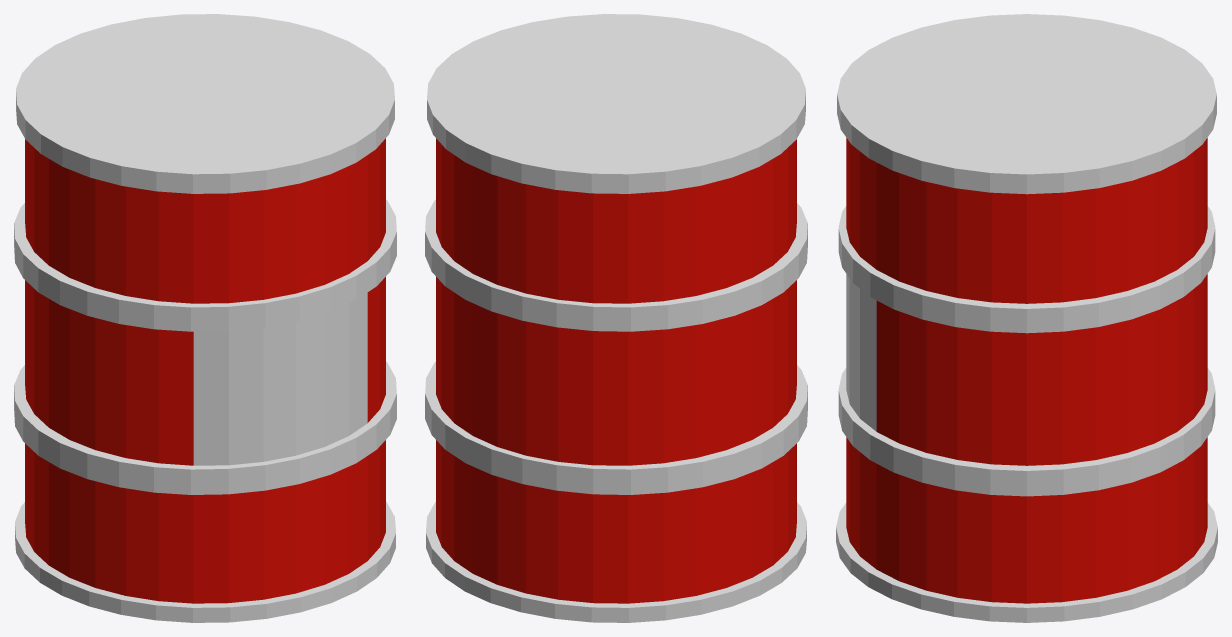
The model's file is ExplosiveBarrel.fbx.
The picture shows the model from 3 angles, left to right: view 1: azimuth 30°, elevation 25°; view 2: azimuth 150°, elevation 25°; view 3: azimuth 270°, elevation 25°; orthographic projection.
Visible parts, largest first — view 1: Cylinder; view 2: Cylinder; view 3: Cylinder.
Part boxes in pixels (x1=…): Cylinder: x1=14, y1=14, x2=396, y2=622; Cylinder: x1=425, y1=14, x2=807, y2=622; Cylinder: x1=836, y1=14, x2=1217, y2=622.
Bounding box in the file's own units: 452 × 580 × 448.
